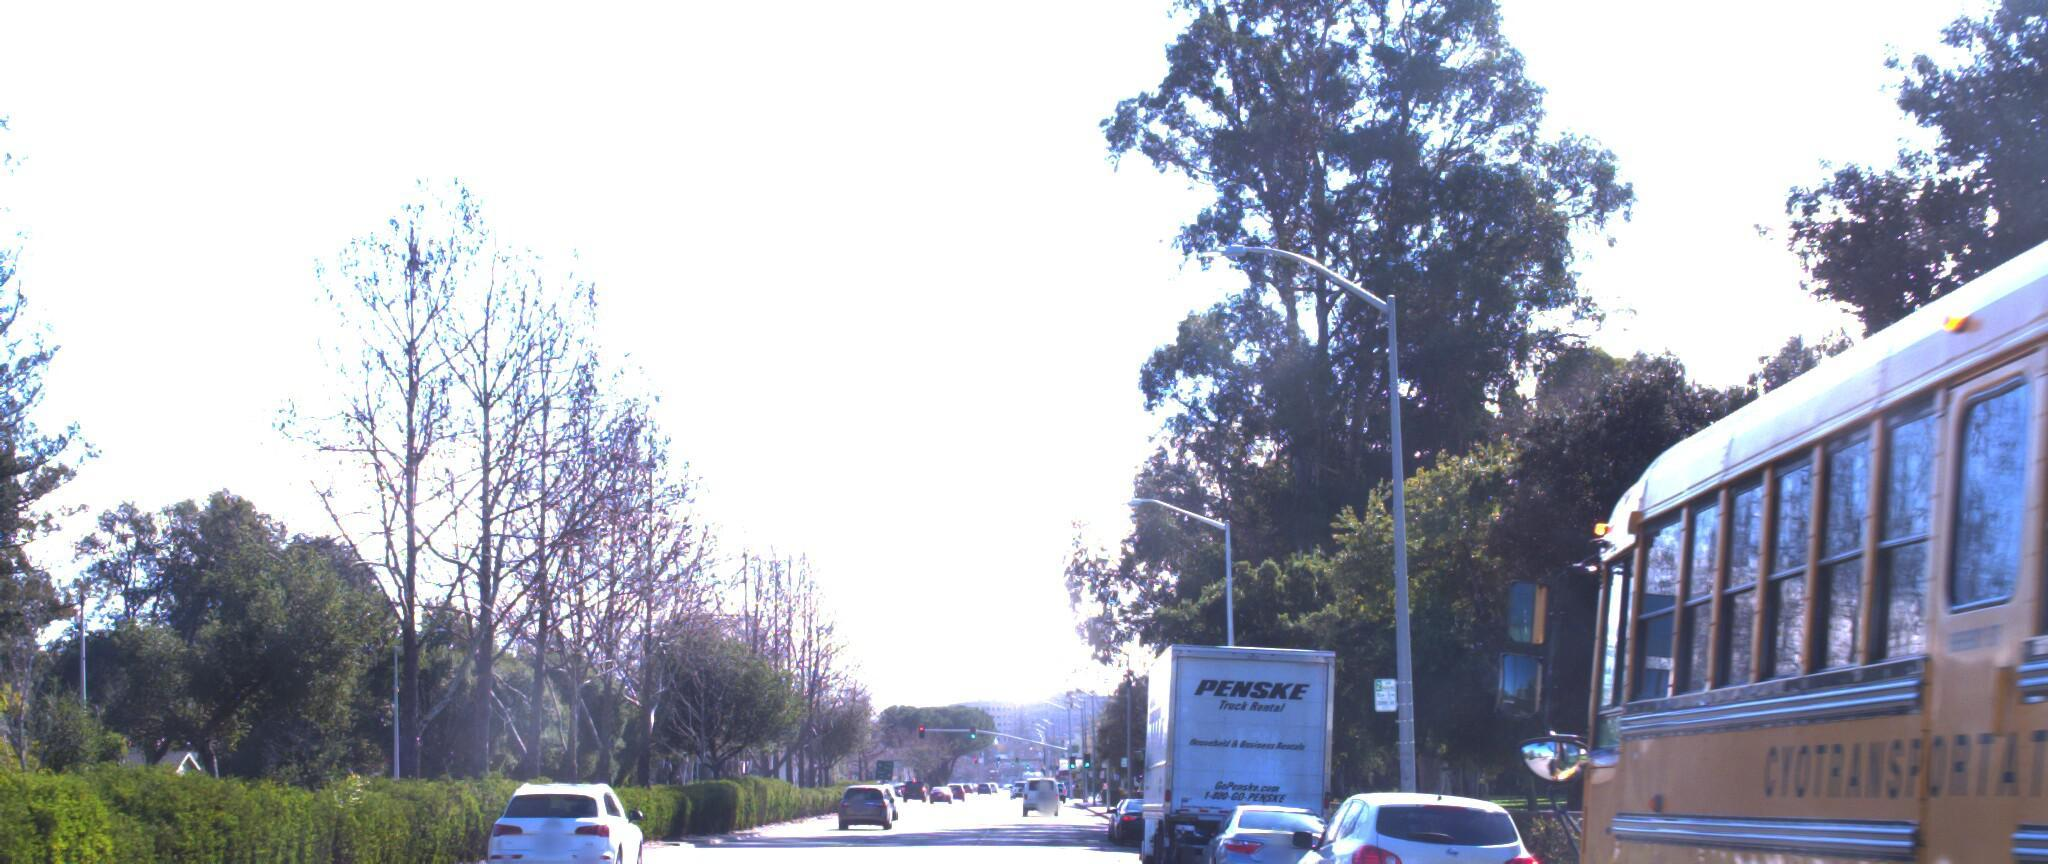bus: (1511, 0, 2048, 864)
car: (1270, 764, 1560, 864), (475, 741, 654, 864), (1183, 777, 1351, 864)
truck: (1125, 619, 1345, 864)
